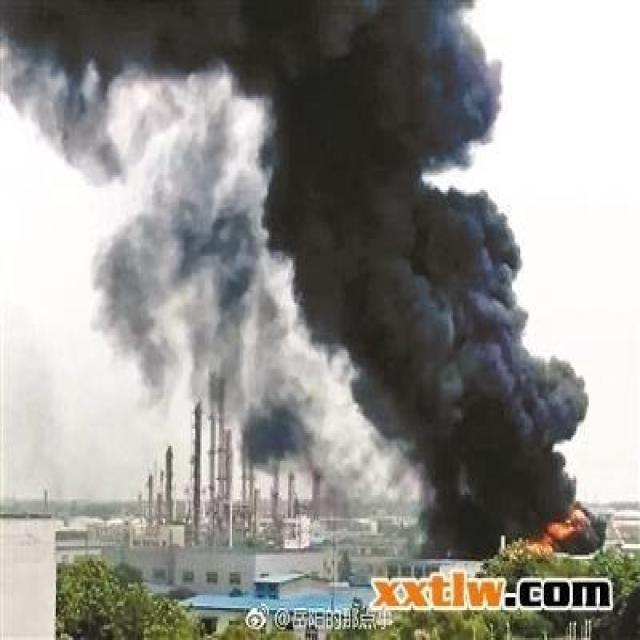Fire: (524, 506, 590, 556)
Smoke: (1, 2, 606, 559)
